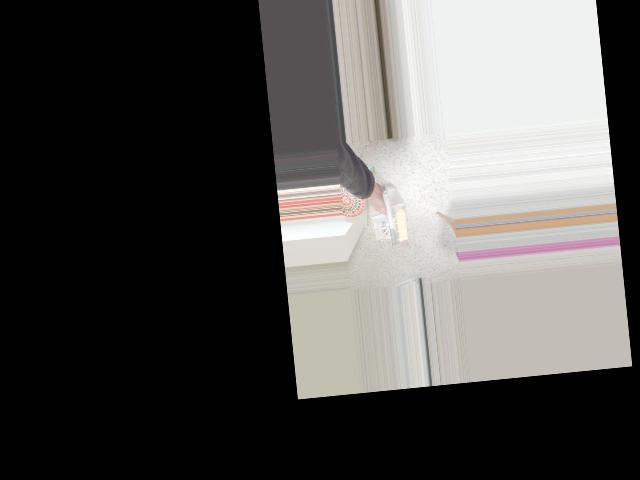cheese: (369, 183, 416, 247)
